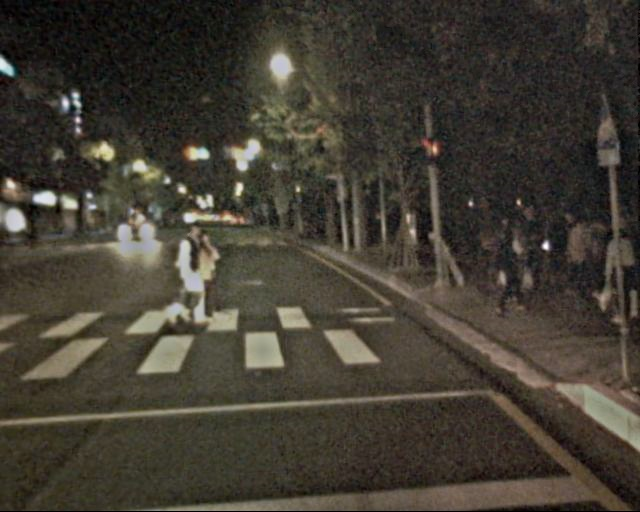person: (497, 207, 546, 318), (166, 218, 208, 320), (596, 231, 637, 330), (183, 232, 220, 323), (549, 209, 584, 294), (569, 215, 603, 299)
